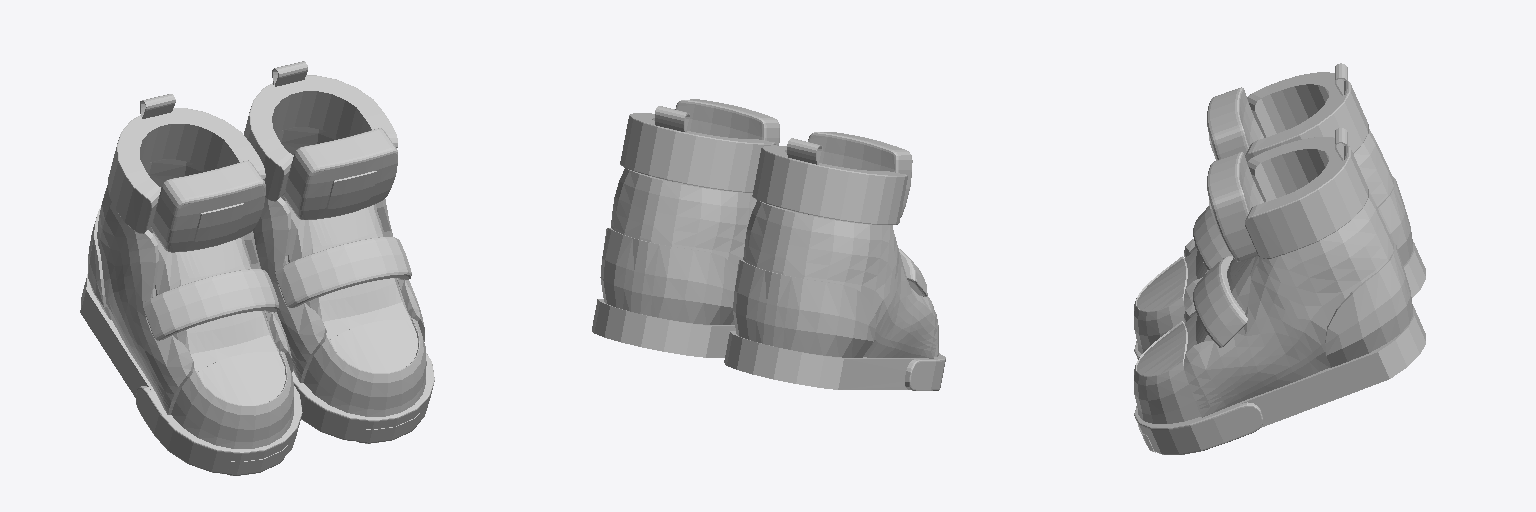
File: Sneakers final.obj
3 renders of one model, left to right at view 1: azimuth 30°, elevation 25°; view 2: azimuth 150°, elevation 25°; view 3: azimuth 270°, elevation 25°, orthographic.
Visible parts, largest first — view 1: Sneaker; view 2: Sneaker; view 3: Sneaker.
Boxes of the visible parts, x1,y1,x2,y2 form: Sneaker: [80, 61, 434, 475]; Sneaker: [592, 99, 945, 390]; Sneaker: [1134, 63, 1425, 454].
Size of the model in its own units: 19.21 by 21.13 by 18.39.